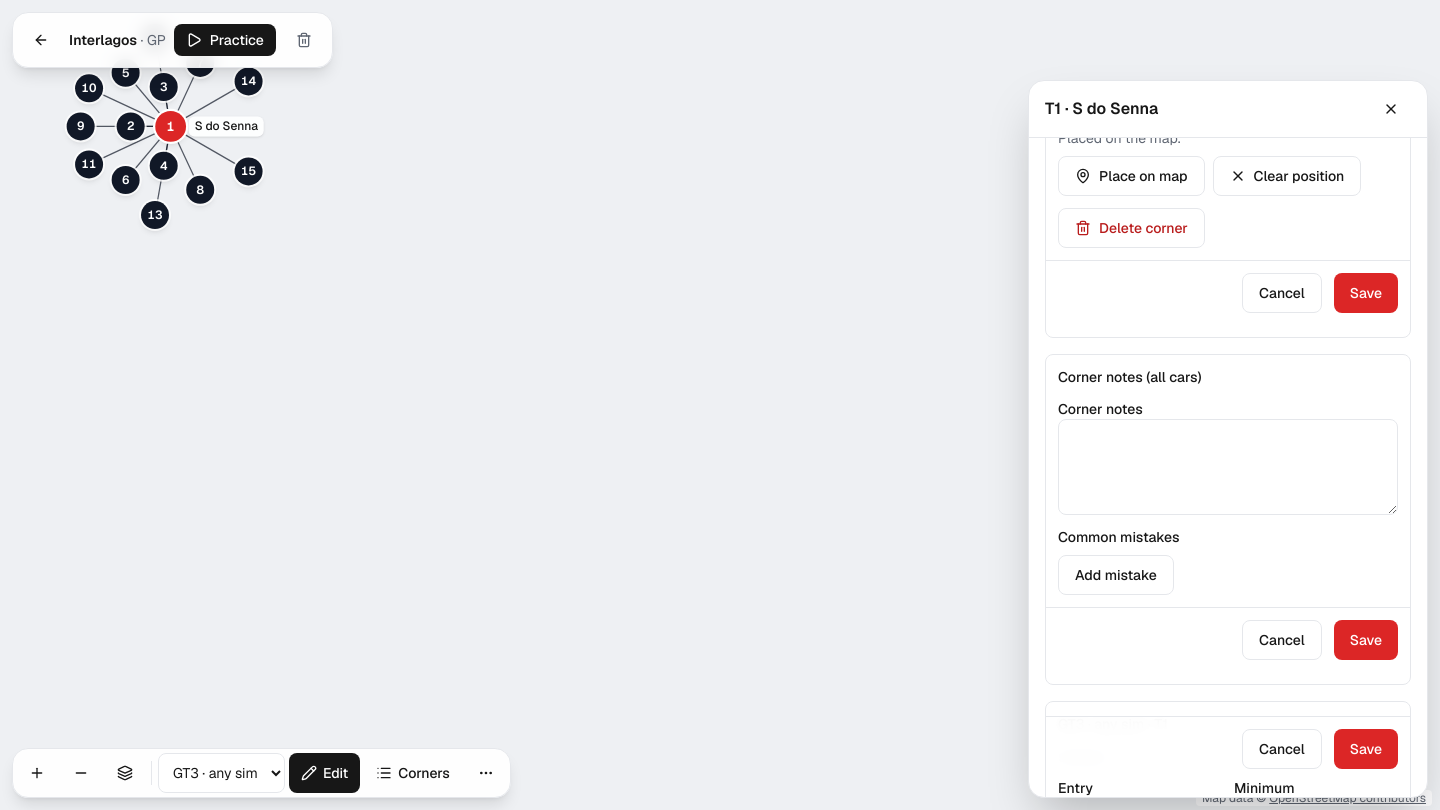
TrackViewPage edit mode › keeps the edits and the corner on Keep editing
This screenshot has width=1440, height=810.
(page scrolled)
Type "x" into the text box labelled "Corner notes".
click(1228, 467); type("x")  # box [1058, 419, 1398, 515]
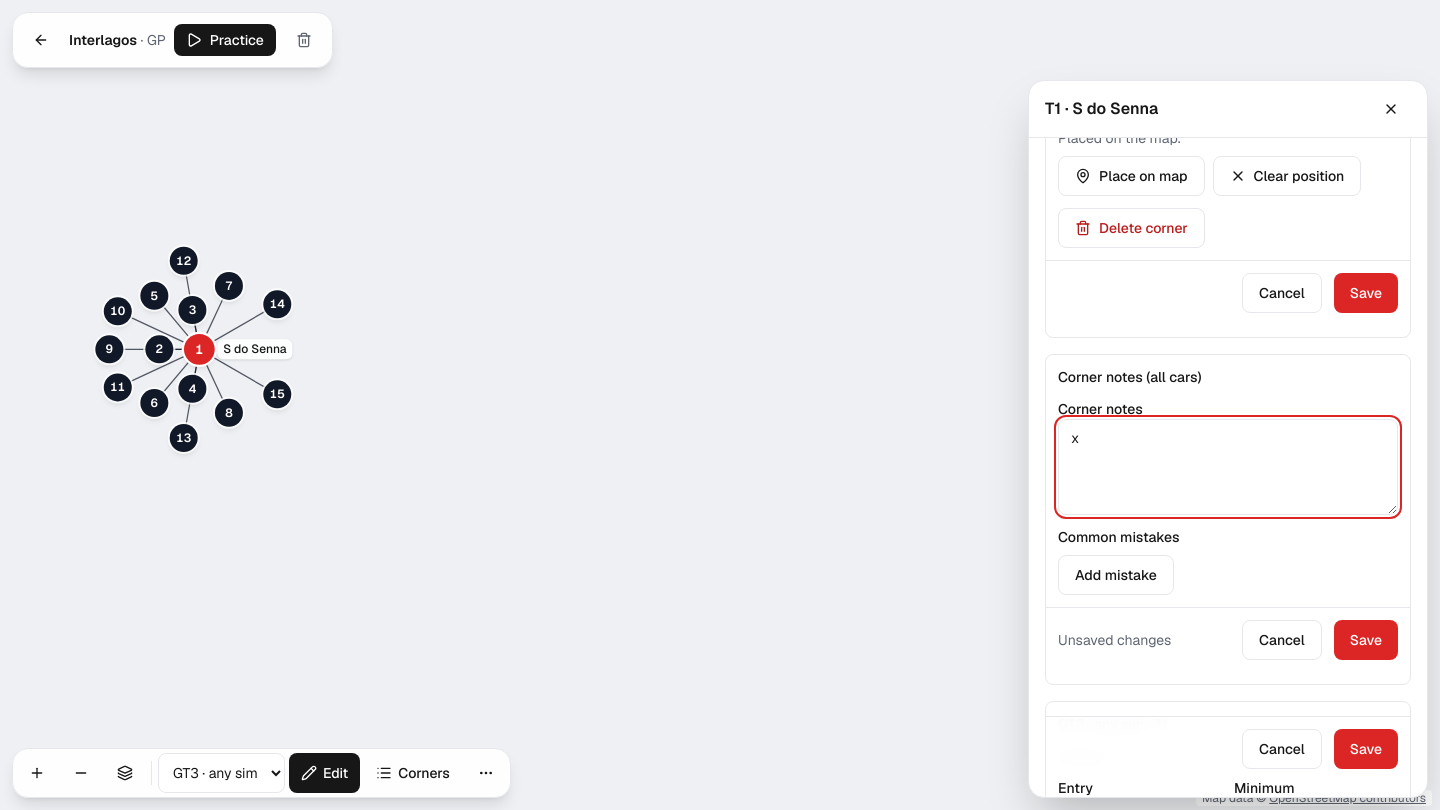
Click the button named "Turn 2,".
click(159, 349)  # box [145, 335, 173, 363]
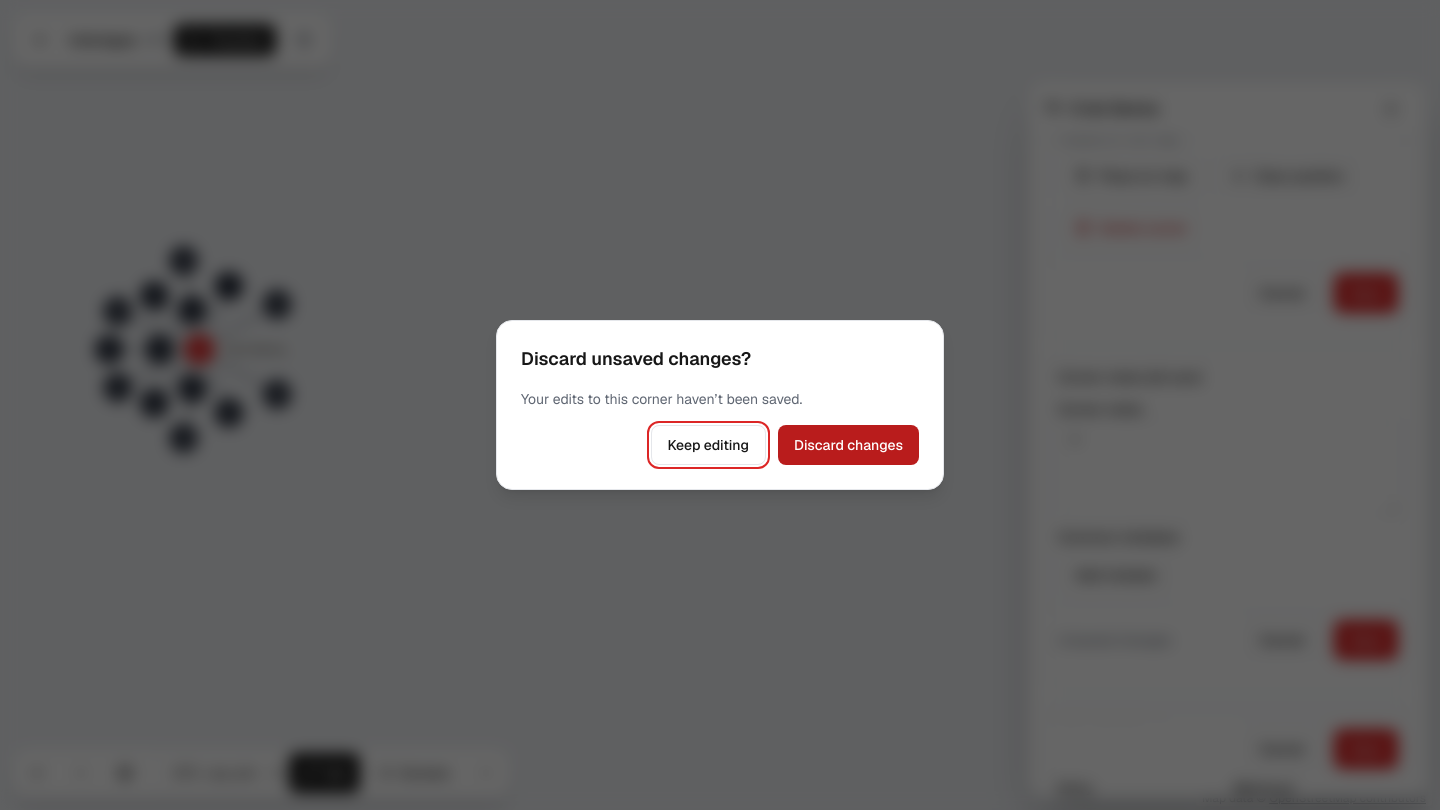
Click the button "Keep editing".
click(708, 445)  # box [651, 425, 766, 465]
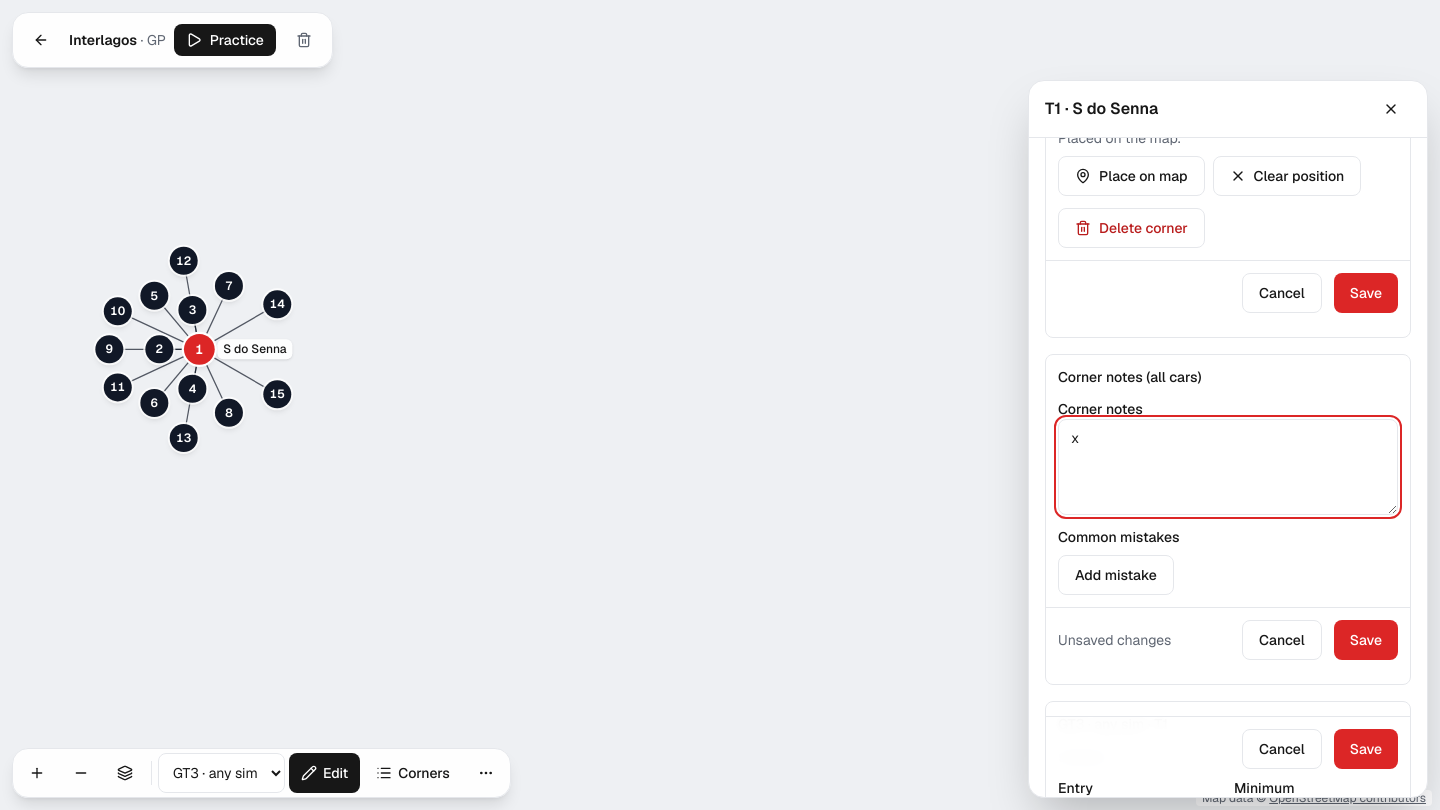
Now the dialog is gone
